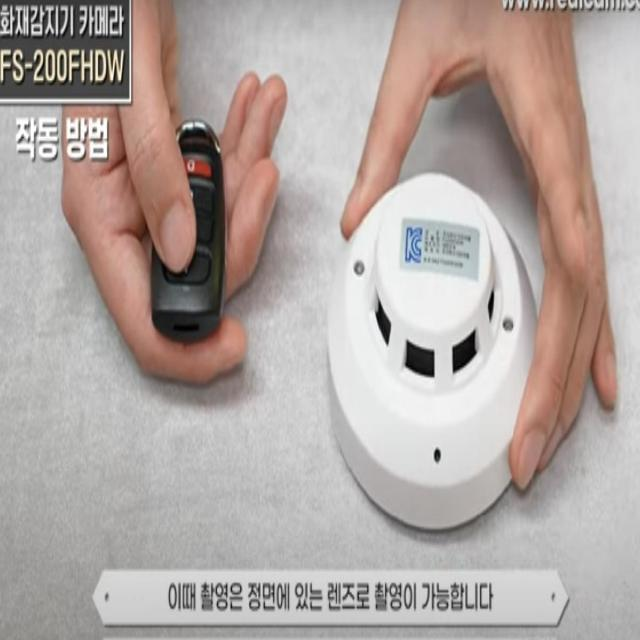hidden camera: (433, 447, 442, 465)
